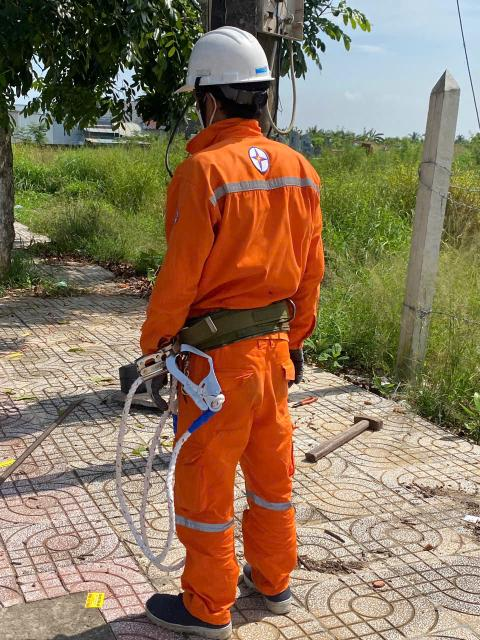harness: (154, 295, 326, 357)
helmet: (164, 13, 299, 106)
shoes: (141, 590, 249, 640), (240, 552, 300, 620)
